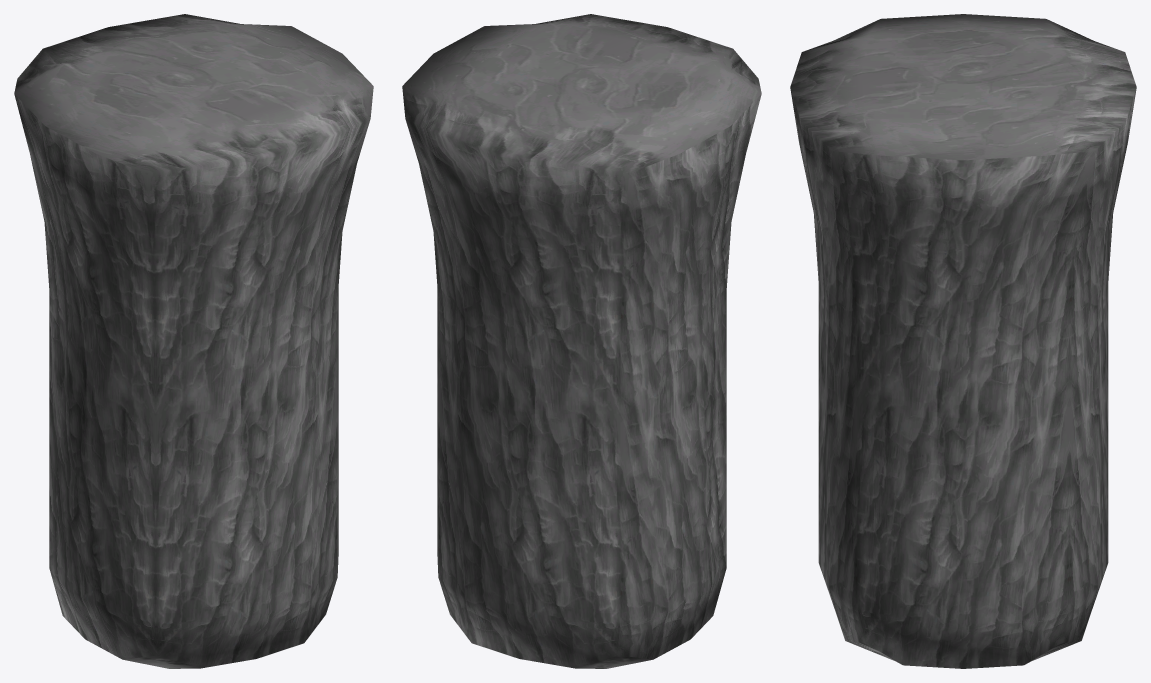
The model's file is INST_SWORDLIGHT_ROCKPLATC.obj.
3 views of the same model, side by side, from view 1: azimuth 30°, elevation 25°; view 2: azimuth 150°, elevation 25°; view 3: azimuth 270°, elevation 25° (orthographic).
Visible parts, largest first — view 1: ckplatC_Lod1_01; view 2: ckplatC_Lod1_01; view 3: ckplatC_Lod1_01.
Boxes of the visible parts, bbox=[...] form: ckplatC_Lod1_01: bbox=[14, 14, 373, 668]; ckplatC_Lod1_01: bbox=[402, 14, 761, 668]; ckplatC_Lod1_01: bbox=[790, 14, 1136, 668].
Size of the model in its own units: 224 by 398 by 224.
